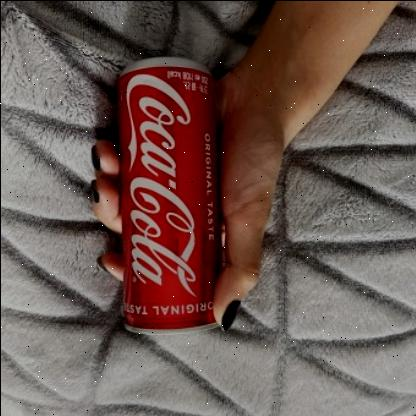Can: (122, 55, 220, 333)
